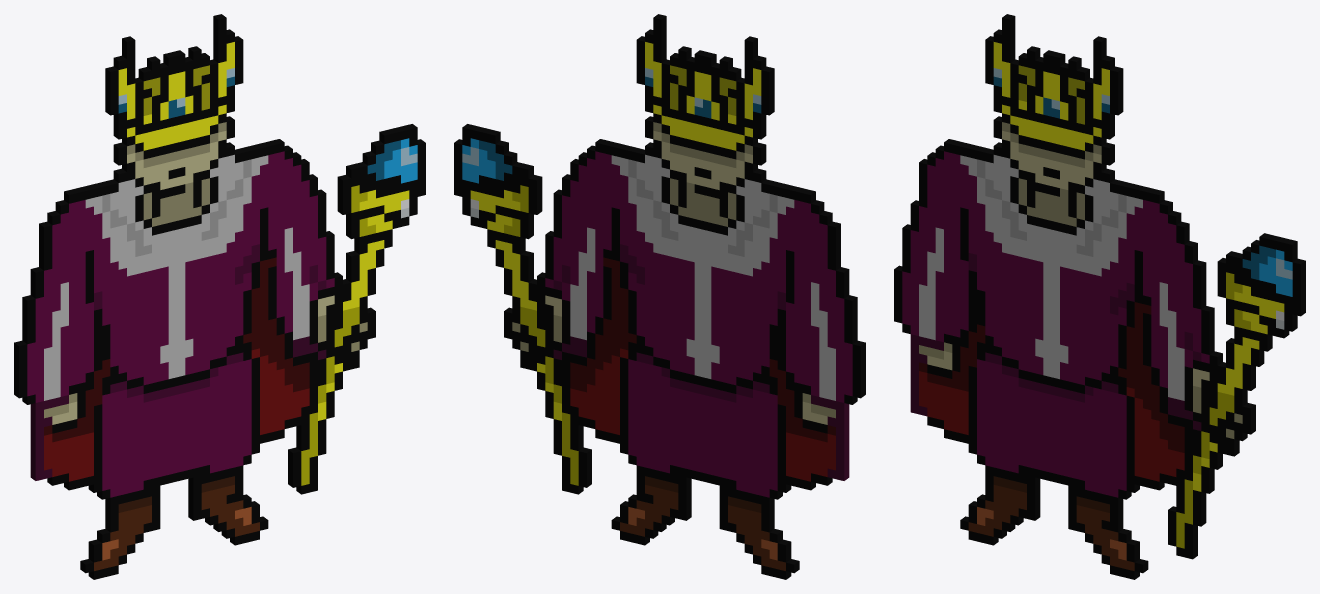
Rendered from King.fbx.
3 renders of one model, left to right at view 1: azimuth 30°, elevation 25°; view 2: azimuth 150°, elevation 25°; view 3: azimuth 330°, elevation 25°, orthographic.
Visible parts, largest first — view 1: Curve.1022; view 2: Curve.1022; view 3: Curve.1022.
Part boxes in pixels (bbox=[...]): Curve.1022: bbox=[14, 14, 425, 579]; Curve.1022: bbox=[454, 14, 865, 579]; Curve.1022: bbox=[894, 14, 1305, 579].
Bounding box in the file's own units: 41.49 × 51.64 × 0.9.
